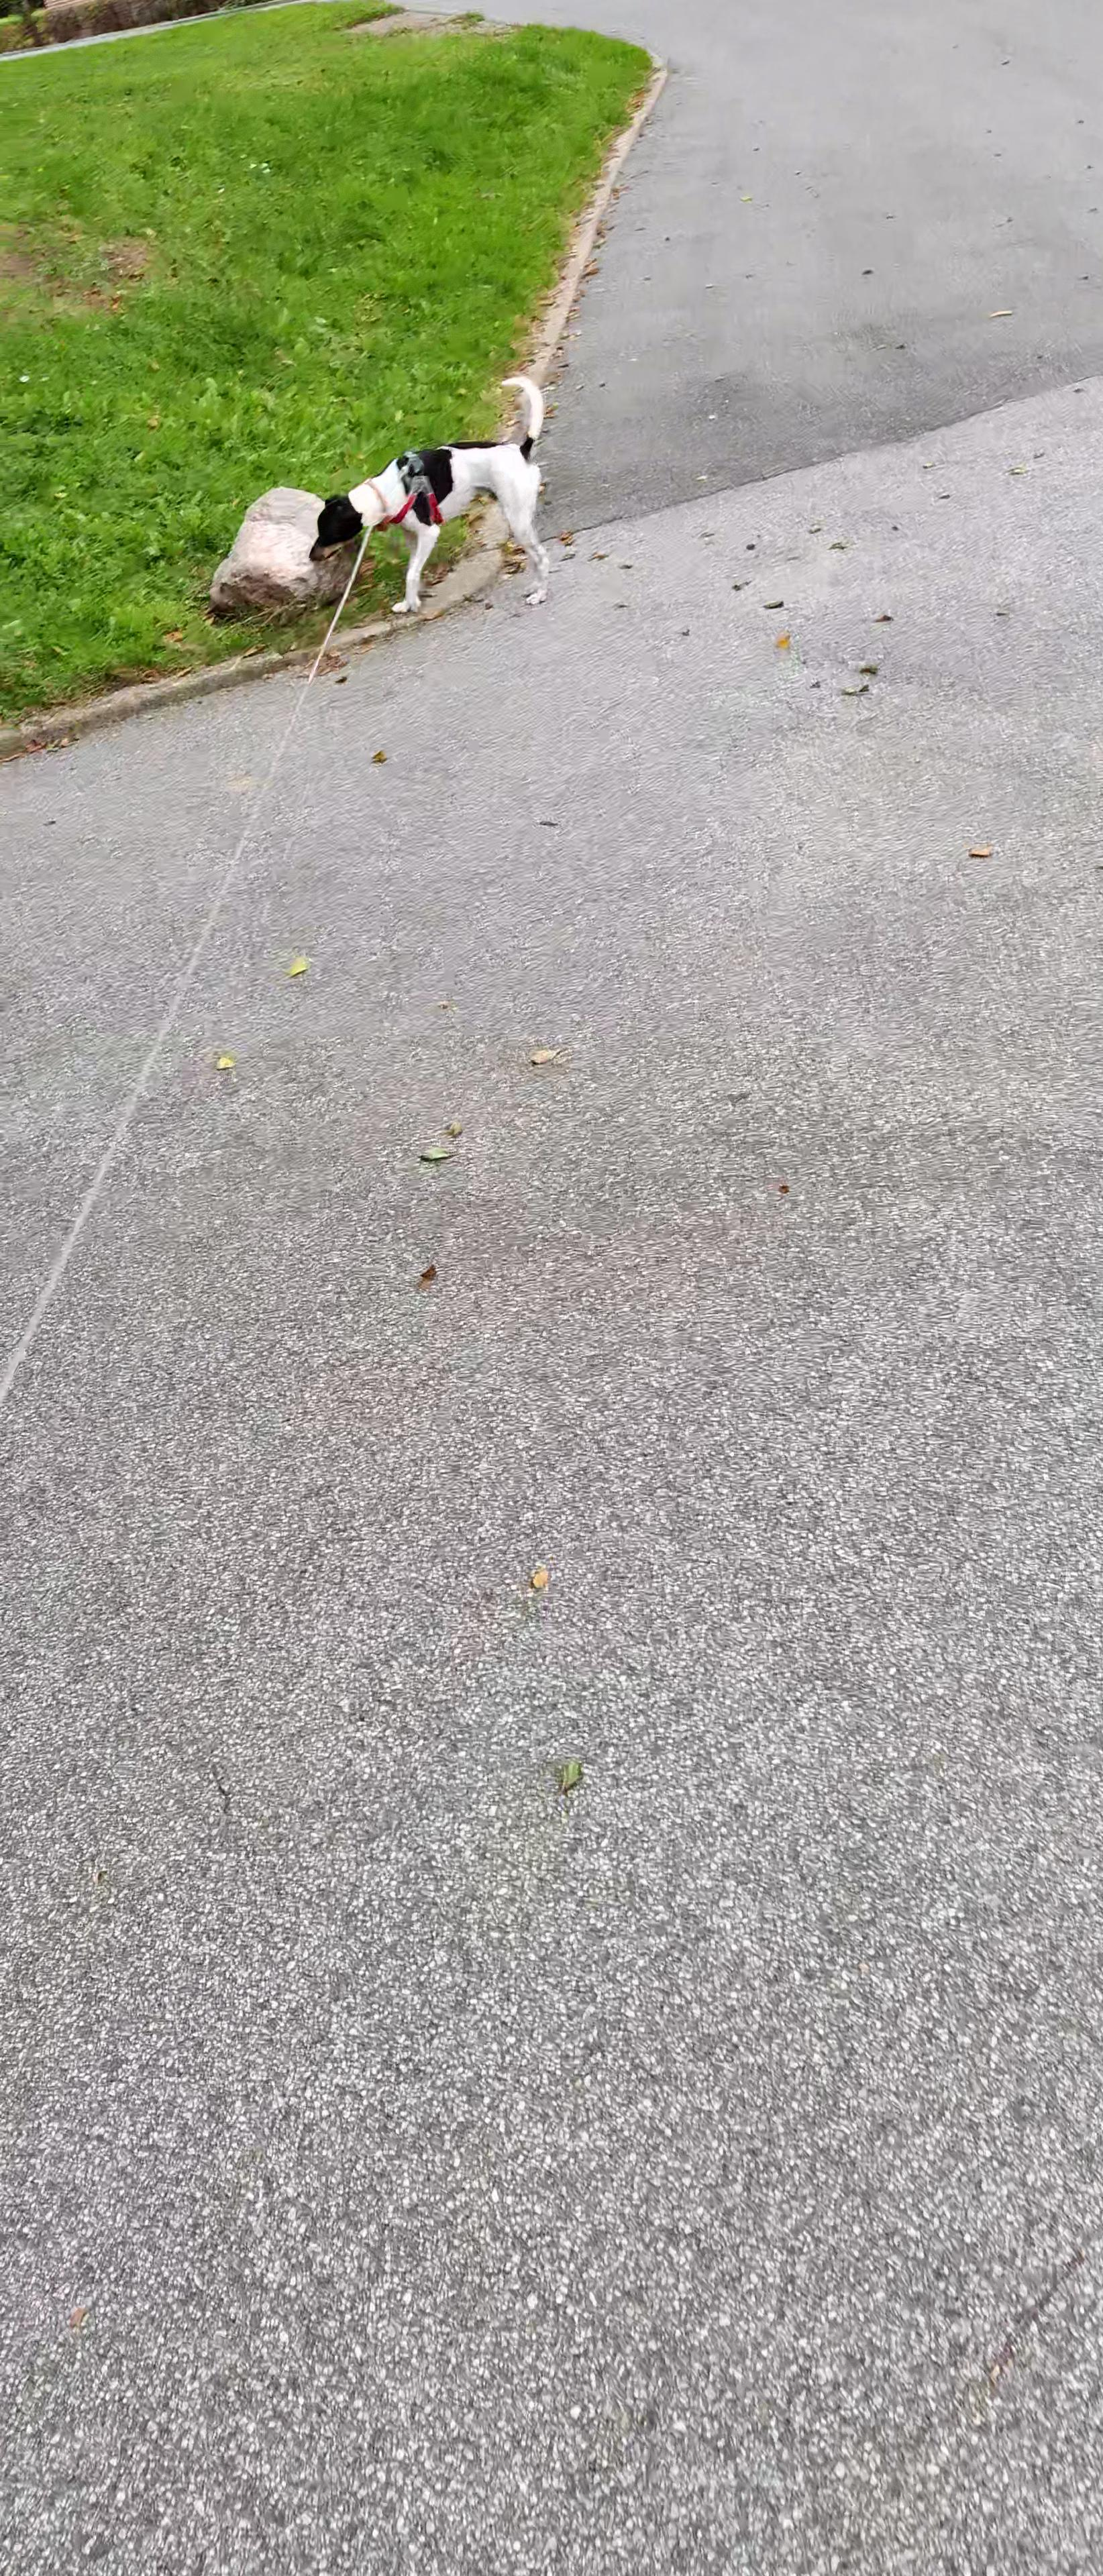Dog: (288, 366, 577, 624)
